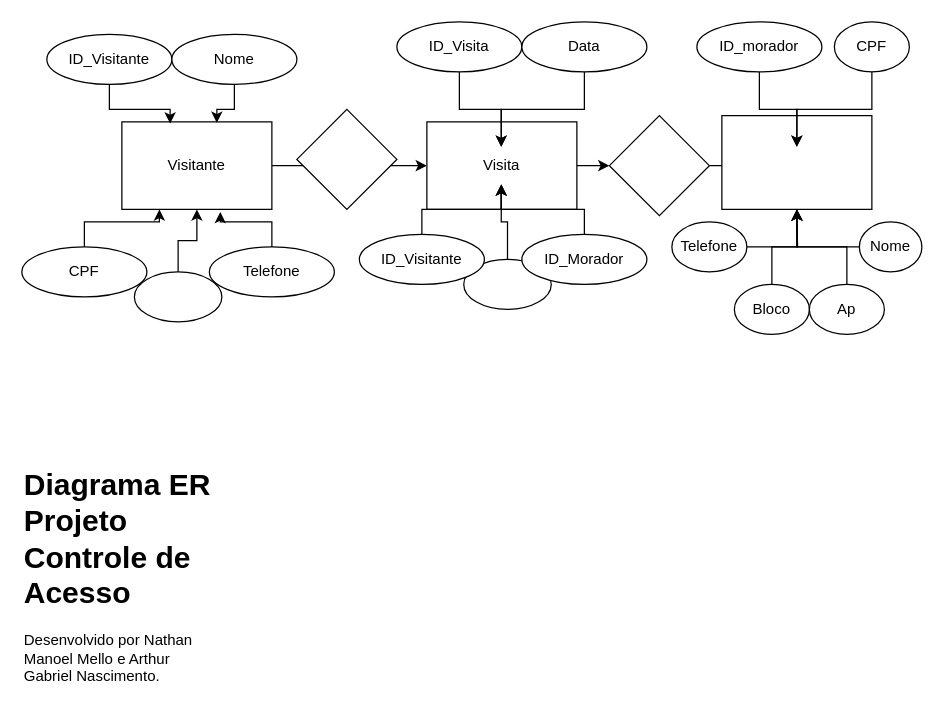
Some shapes in this 944 by 710 pixel diagram are drawn without their labels. Each missing label, with the centre of its shape:
"Foto" belongs at point 177,296.
"Hora" belongs at point 506,283.
"Morador" belongs at point 796,161.
